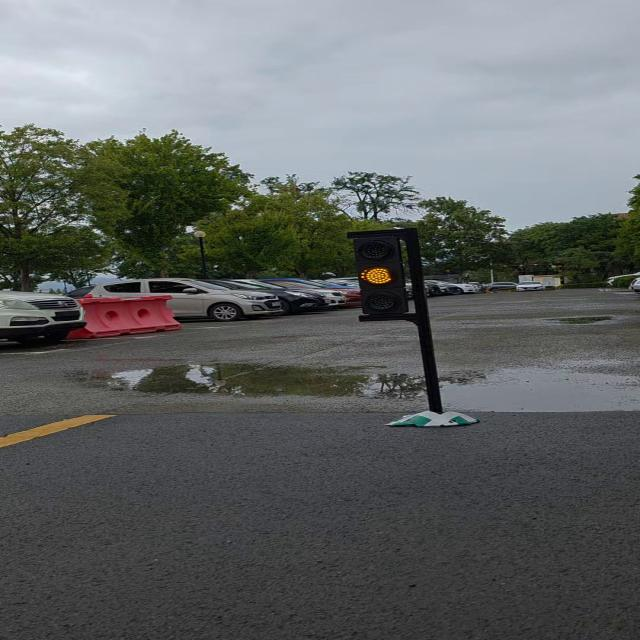yellow: (338, 221, 428, 327)
